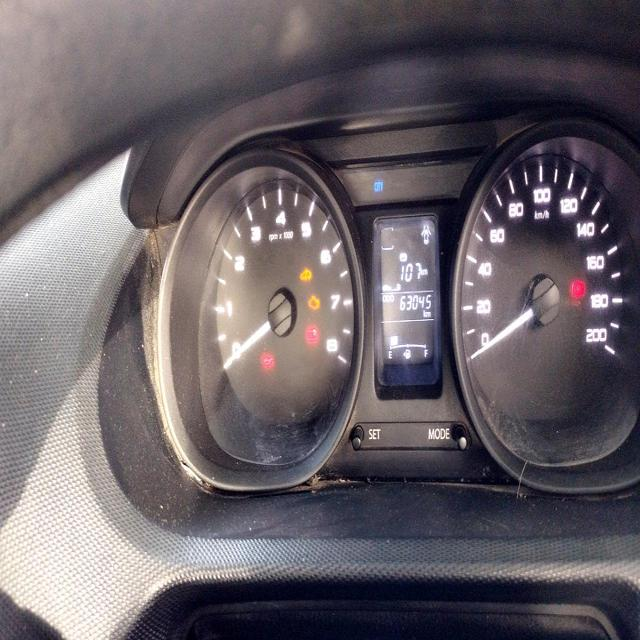odometer: (398, 292, 432, 312)
